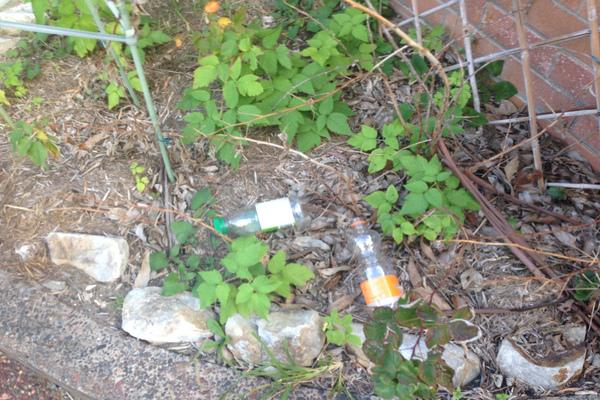Plastic Bottle: (348, 216, 403, 308), (214, 196, 302, 237)
